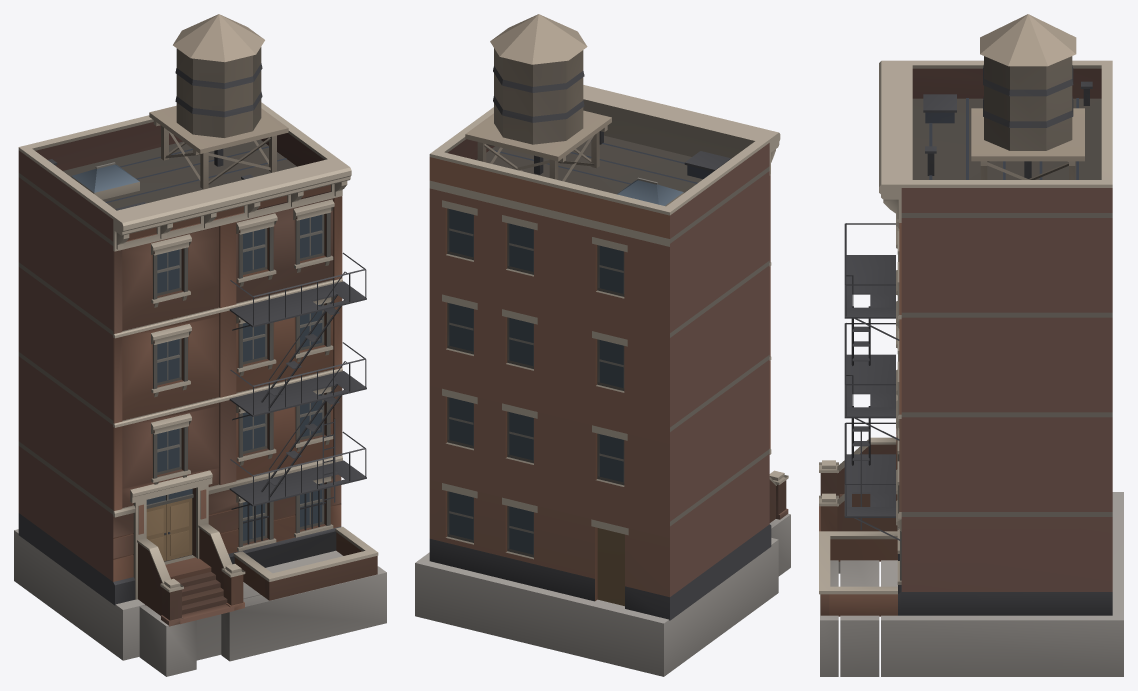
Rendered from hotel.glb.
3 views of the same model, side by side, from view 1: azimuth 30°, elevation 25°; view 2: azimuth 150°, elevation 25°; view 3: azimuth 270°, elevation 25° (orthographic). The views are drawn at different scales.
Visible parts, largest first — view 1: hotel; view 2: hotel; view 3: hotel.
Boxes of the visible parts, <box> form: hotel: <box>14,14,386,676</box>; hotel: <box>415,14,790,676</box>; hotel: <box>819,14,1123,676</box>.
Size of the model in its own units: 7.48 by 16.85 by 7.48.
